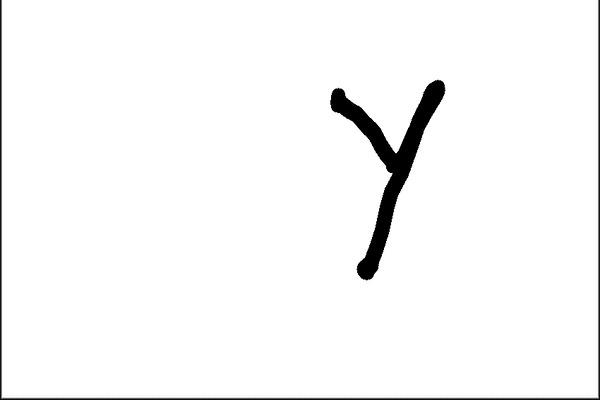Y: (317, 69, 452, 284)
